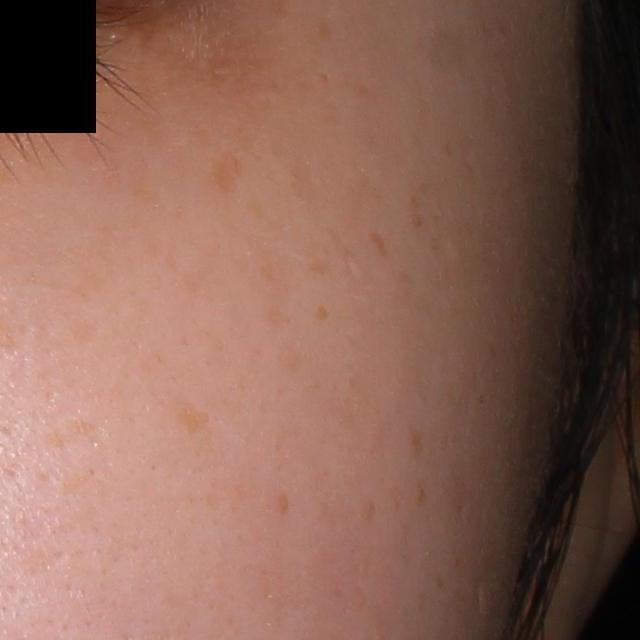melasma: (123, 152, 163, 209), (208, 146, 242, 194), (173, 403, 211, 433), (364, 228, 390, 260), (302, 254, 333, 277), (312, 305, 331, 321)
